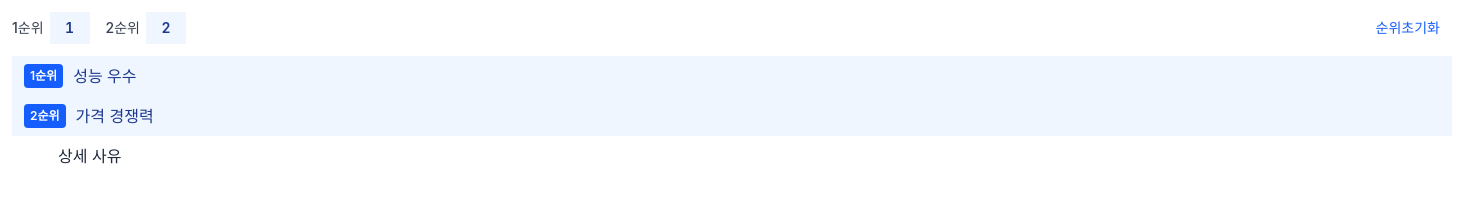
RankingClickList › 순위가 다 찼으면 다른 보기를 눌러도 바뀌지 않고 안내를 띄운다
The image size is (1464, 213).
Click the button "상세 사유" at (90, 156), box [12, 136, 1452, 176]
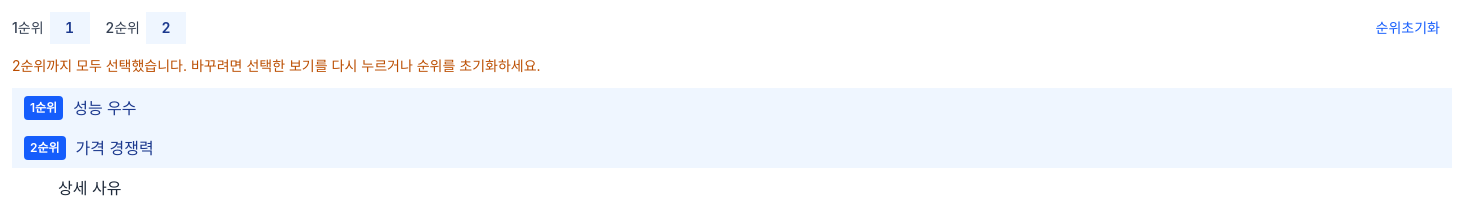
expect the message shows "2순위까지 모두 선택했습니다": met, box [12, 57, 541, 74]
